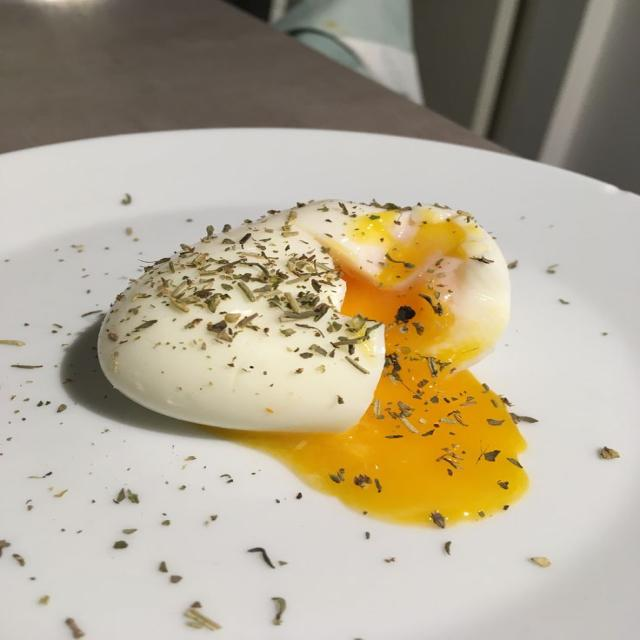egg boiled: (100, 201, 526, 523)
